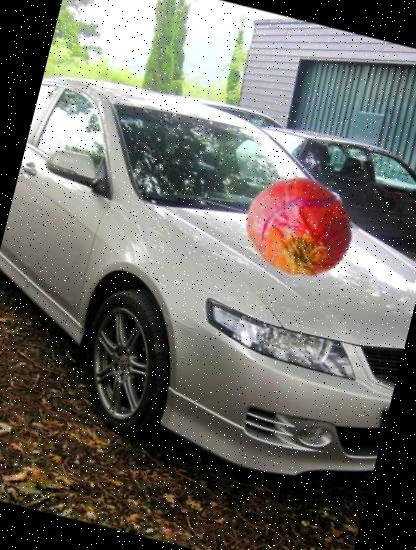Onion: (232, 163, 369, 300)
